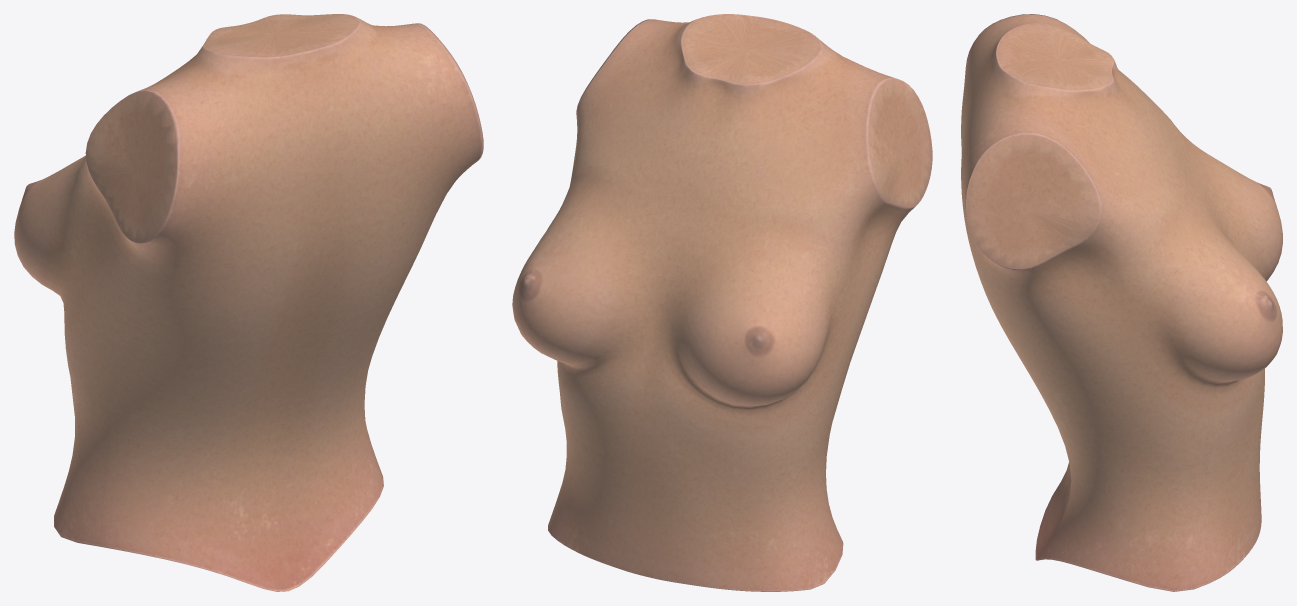
The model's file is bodyWithoutStitch.glb.
3 renders of one model, left to right at view 1: azimuth 30°, elevation 25°; view 2: azimuth 150°, elevation 25°; view 3: azimuth 270°, elevation 25°, orthographic. The views are drawn at different scales.
Parts seen in each view (by area): view 1: women_body_; view 2: women_body_; view 3: women_body_.
Boxes of the visible parts, x1,y1,x2,y2 form: women_body_: (14,14,483,591); women_body_: (512,14,932,591); women_body_: (961,14,1282,591).
Size of the model in its own units: 25.74 by 40.51 by 23.41.
Materials: 1 (1 with a texture image).
